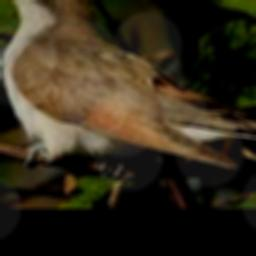Cuckoo: (0, 0, 256, 167)
